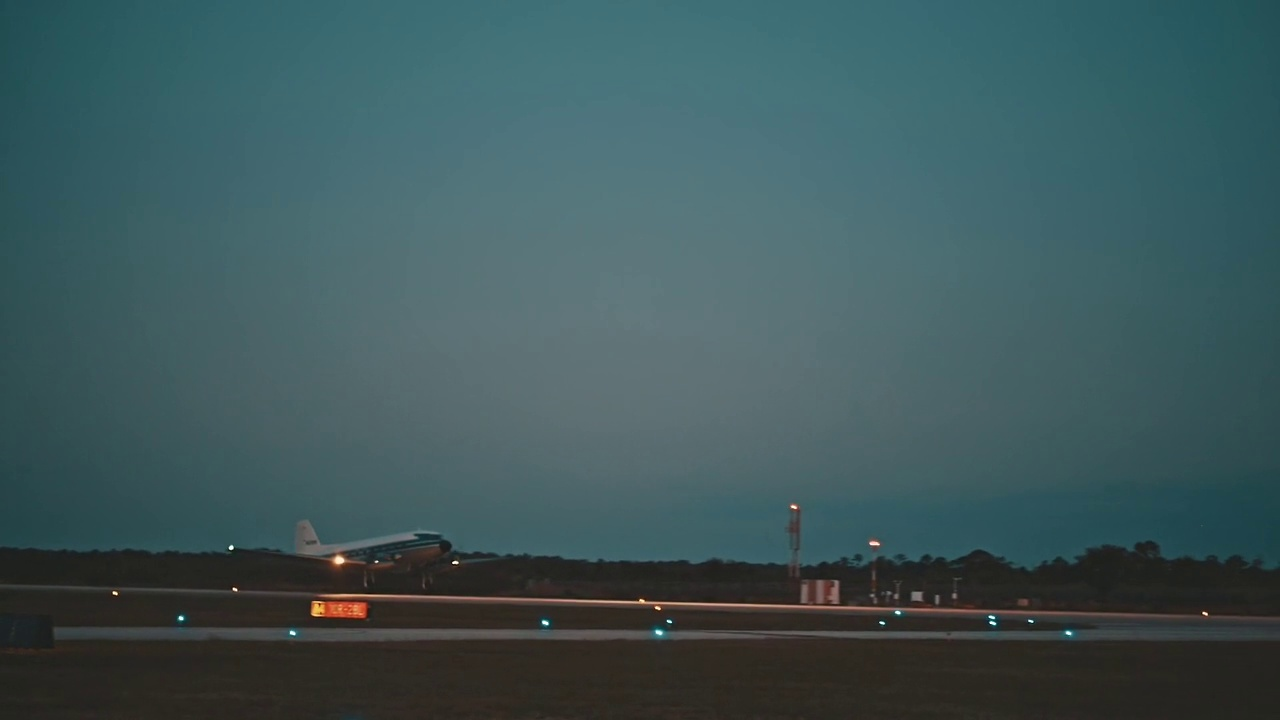plane: (226, 520, 512, 592)
